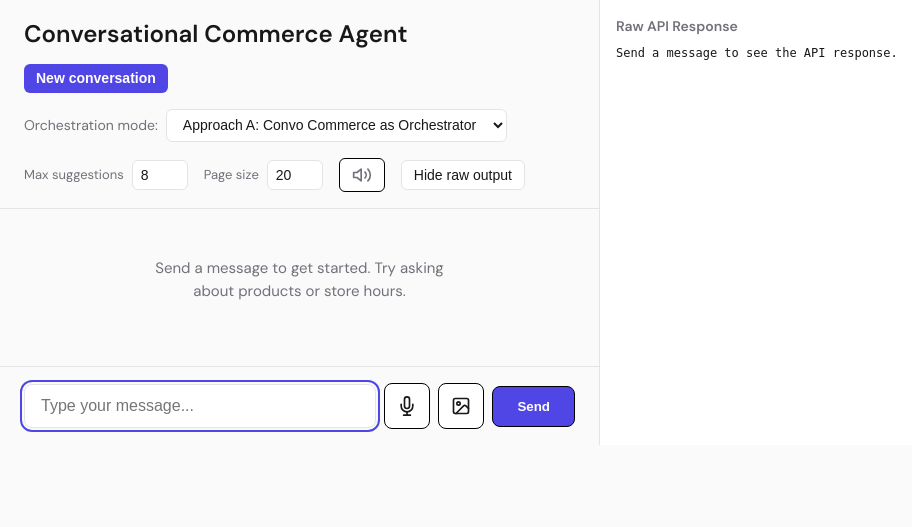
Test: ChatInterface › sends message on button click
In the field named "Chat message": (200, 406) [24,384,376,428], type "hi"
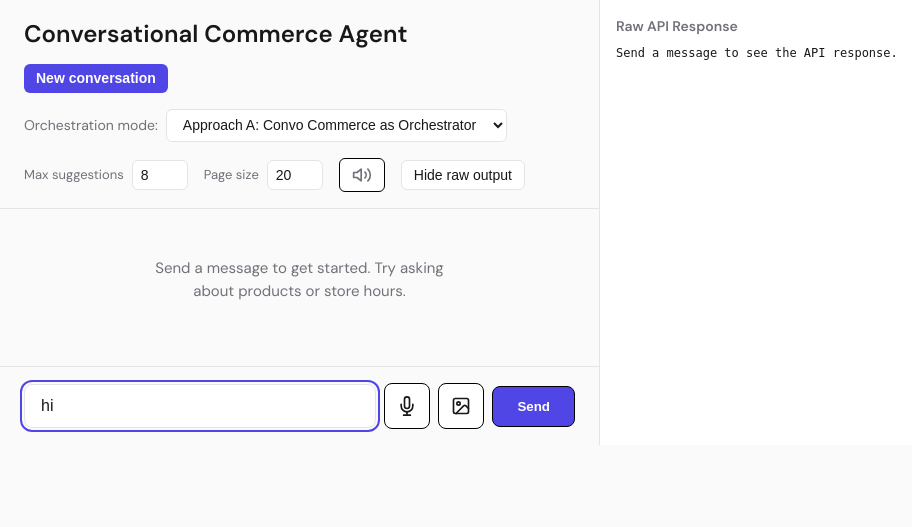
Click the button with aria-label "Send message": (534, 406) [492,386,575,427]
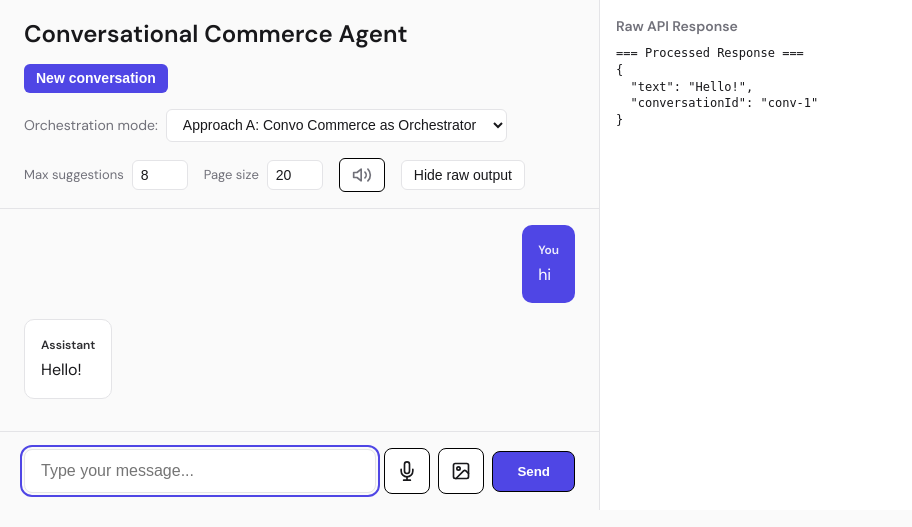
Expected: the text "hi" is shown, [538,264,551,285]
Expected: the text "Hello!" is shown, [41,359,82,380]
